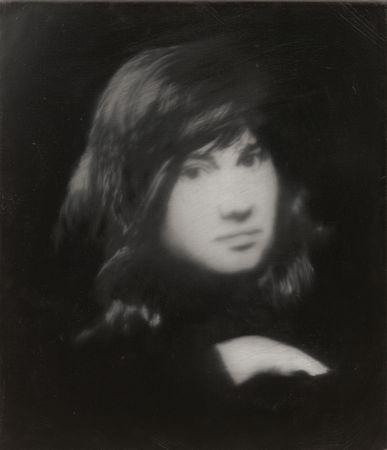person: (76, 47, 340, 405)
